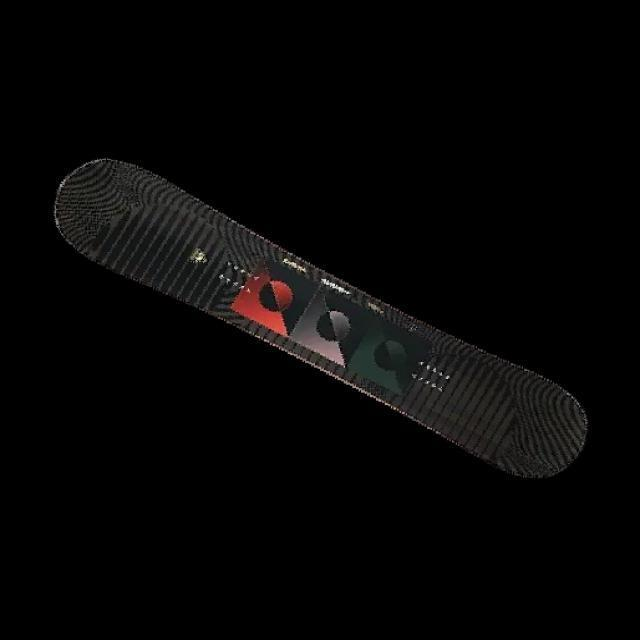Snowboard: (52, 156, 589, 480)
